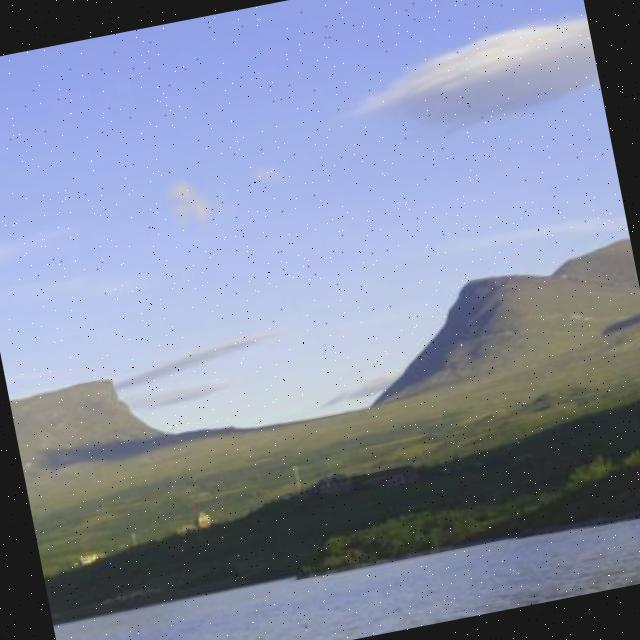Ac: (318, 5, 608, 168)
